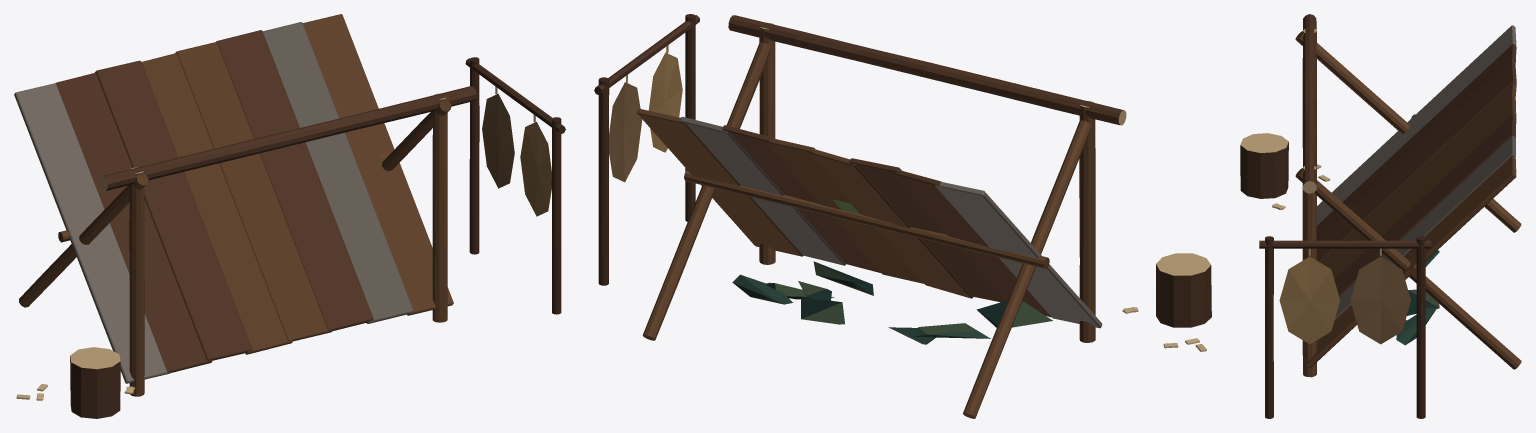
Rendered from lean-to.glb.
3 views of the same model, side by side, from view 1: azimuth 30°, elevation 25°; view 2: azimuth 150°, elevation 25°; view 3: azimuth 270°, elevation 25° (orthographic). The views are drawn at different scales.
Visible parts, largest first — view 1: lean-to-roof, lean-to; view 2: lean-to, lean-to-roof; view 3: lean-to-roof, lean-to.
Boxes of the visible parts, x1,y1,x2,y2 form: lean-to-roof: [14, 14, 453, 383]; lean-to: [16, 57, 565, 418]; lean-to: [594, 14, 1211, 418]; lean-to-roof: [637, 108, 1102, 328]; lean-to-roof: [1306, 25, 1516, 368]; lean-to: [1240, 14, 1521, 418].
Size of the model in its own units: 5.48 by 2.28 by 2.78.
